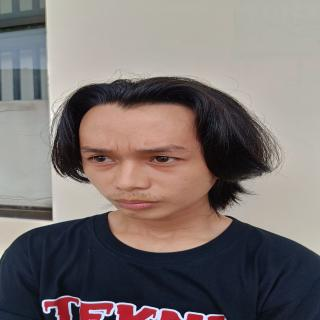Marah: (71, 99, 228, 224)
